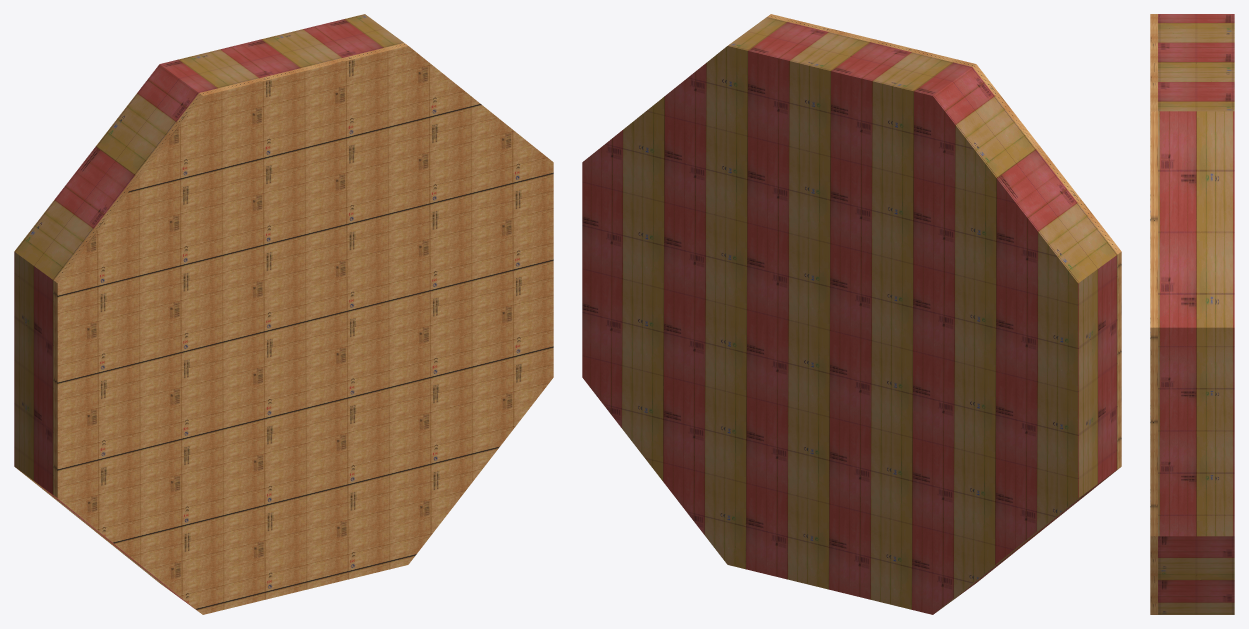
File: start base.fbx
3 views of the same model, side by side, from view 1: azimuth 30°, elevation 25°; view 2: azimuth 150°, elevation 25°; view 3: azimuth 270°, elevation 25° (orthographic). The views are drawn at different scales.
Parts seen in each view (by area): view 1: start plate, start base; view 2: start base, start plate; view 3: start base, start plate.
Part boxes in pixels (x1,y1,x2,y2): start plate: (53, 43, 553, 614); start base: (14, 14, 403, 609); start base: (582, 17, 1117, 614); start plate: (767, 14, 1121, 584); start base: (1158, 14, 1234, 614); start plate: (1150, 14, 1157, 614).
Size of the model in its own units: 69.47 by 69.47 by 10.55.
Materials: 2 (2 with a texture image).
